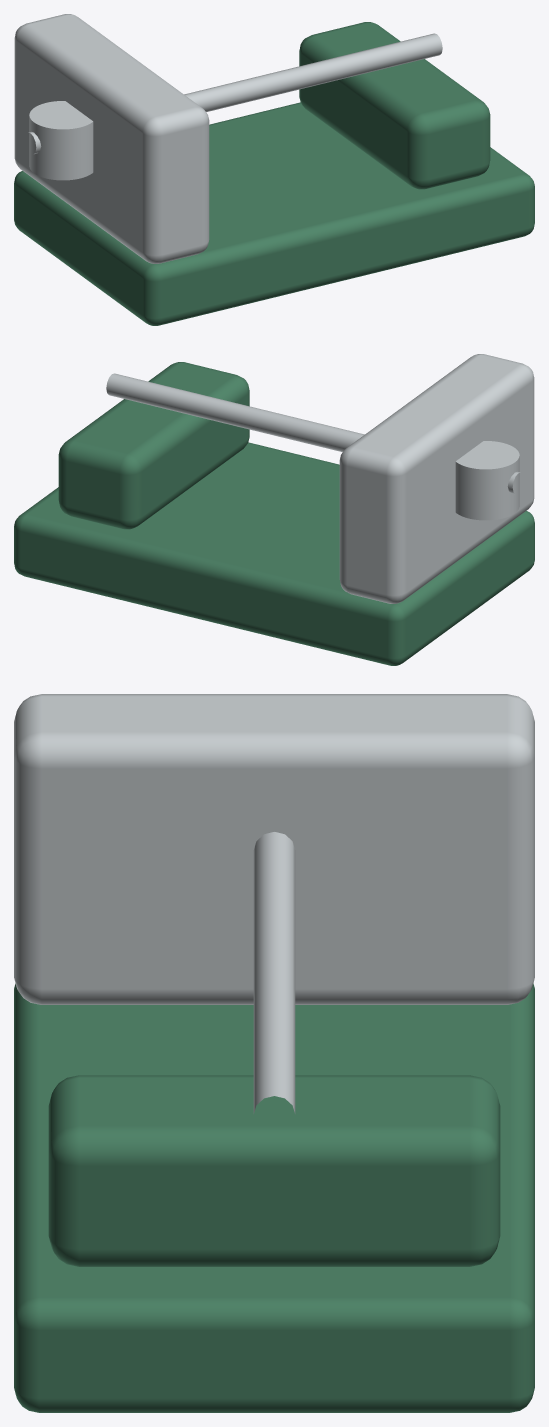
File: clockmaker-and-watch-repair-link-pin-press-2c375703__30631.glb
The picture shows the model from 3 angles, top to bottom: view 1: azimuth 30°, elevation 25°; view 2: azimuth 150°, elevation 25°; view 3: azimuth 270°, elevation 25°; orthographic projection. The views are drawn at different scales.
Visible parts, largest first — view 1: link-pin-press; view 2: link-pin-press; view 3: link-pin-press.
Boxes of the visible parts, bbox=[...] form: link-pin-press: bbox=[14, 14, 534, 325]; link-pin-press: bbox=[14, 354, 534, 665]; link-pin-press: bbox=[14, 694, 534, 1412].
Bounding box in the file's own units: 0.135 × 0.061 × 0.075.
